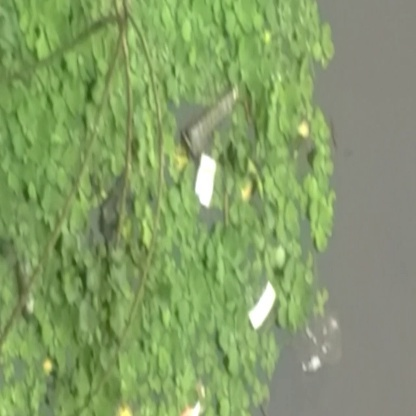leaf: (304, 172, 344, 250)
